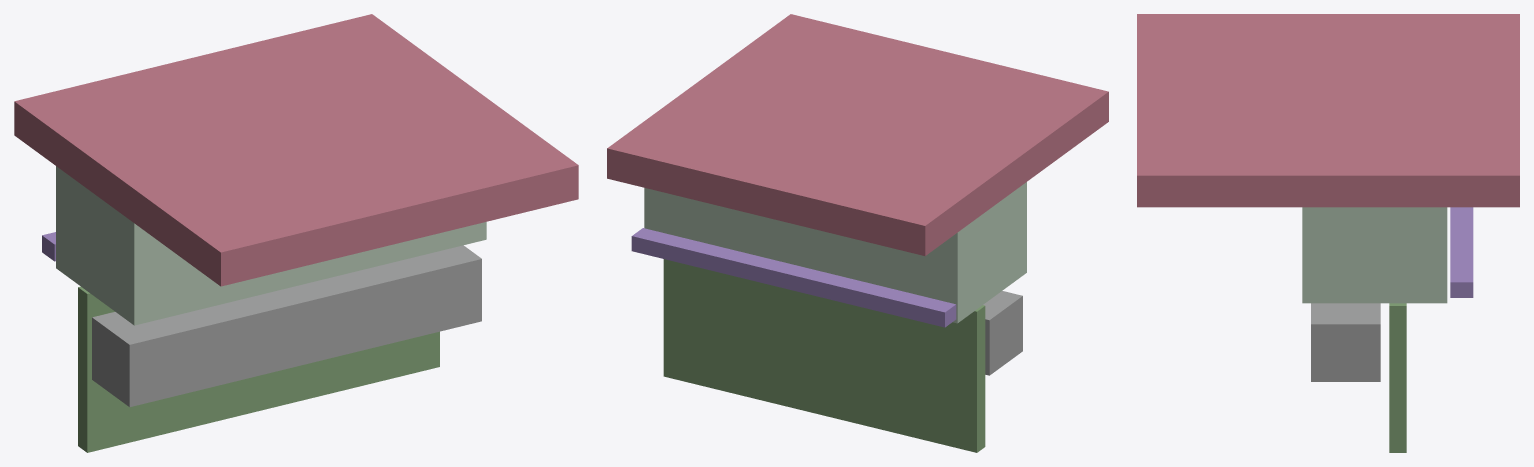
3 views of the same model, side by side, from view 1: azimuth 30°, elevation 25°; view 2: azimuth 150°, elevation 25°; view 3: azimuth 270°, elevation 25° (orthographic). The views are drawn at different scales.
Parts seen in each view (by area): view 1: world; view 2: world; view 3: world.
Boxes of the visible parts, box(x1,y1,x2,y2) form: world: box(14, 14, 578, 452); world: box(607, 14, 1108, 452); world: box(1137, 14, 1519, 452).
Bounding box in the file's own units: 6.6 × 5.3 × 6.6.
